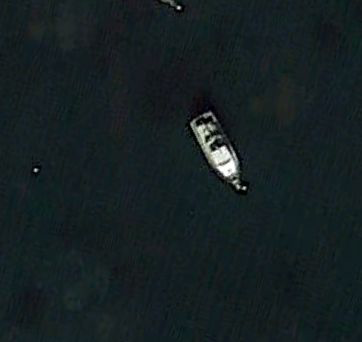boat: (189, 109, 243, 192)
